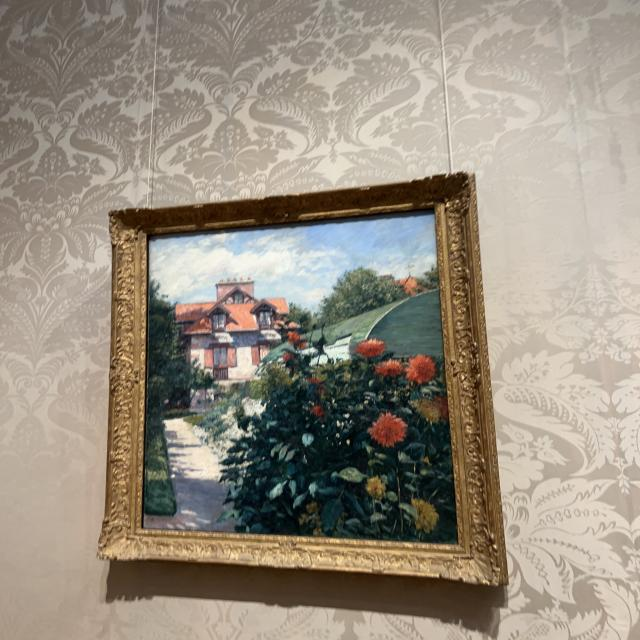summer: (148, 214, 451, 537)
